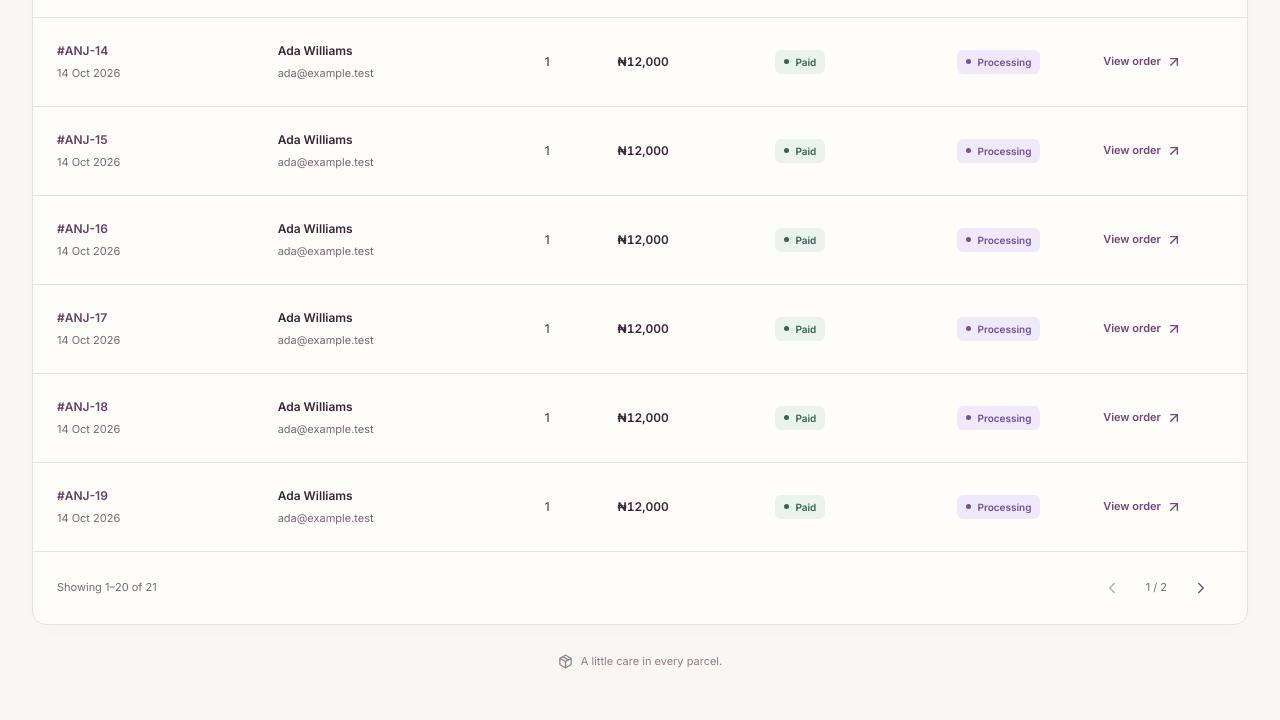
Test: pagination exposes all orders and a new search returns to the first page
(page scrolled)
Click the button named "Next page".
click(1201, 588)  # box [1179,566,1223,610]
(page scrolled)
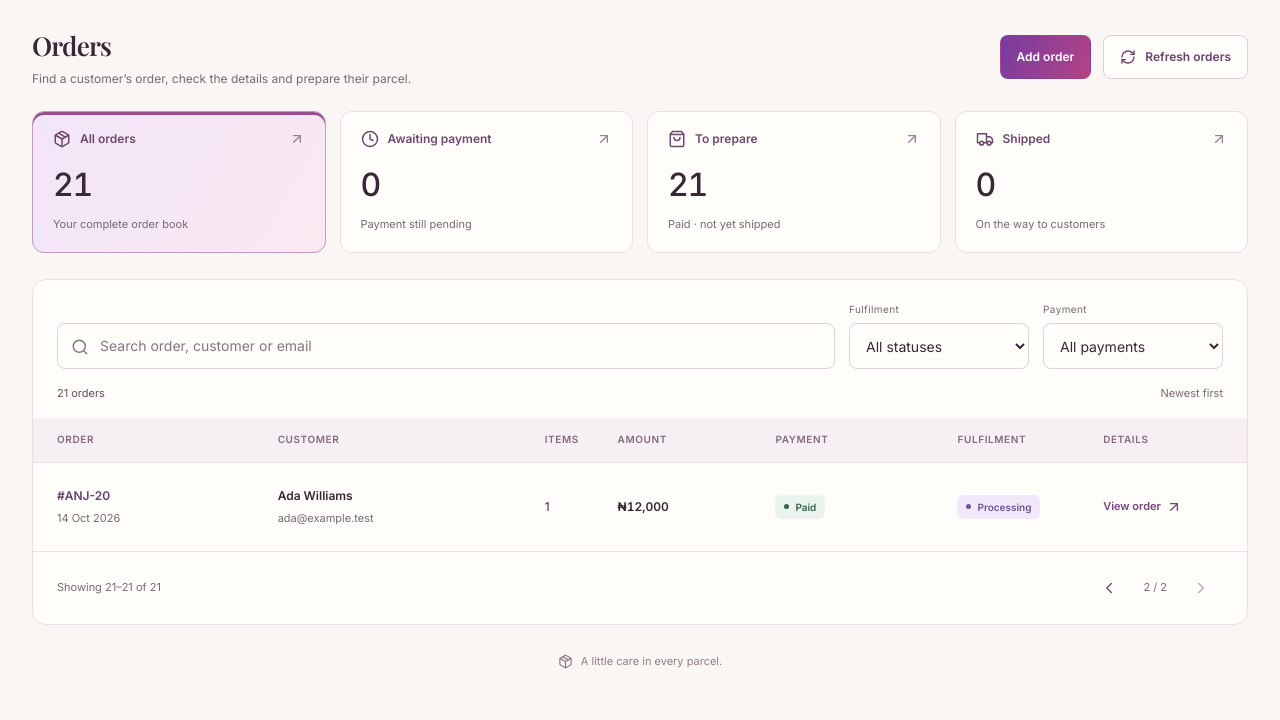
Check: the button with aria-label "View order ANJ-20" is shown, box [1103,485,1182,529]
Type "ANJ-0" into the search field.
click(446, 346); type("ANJ-0")  # box [57,323,835,369]
(page scrolled)
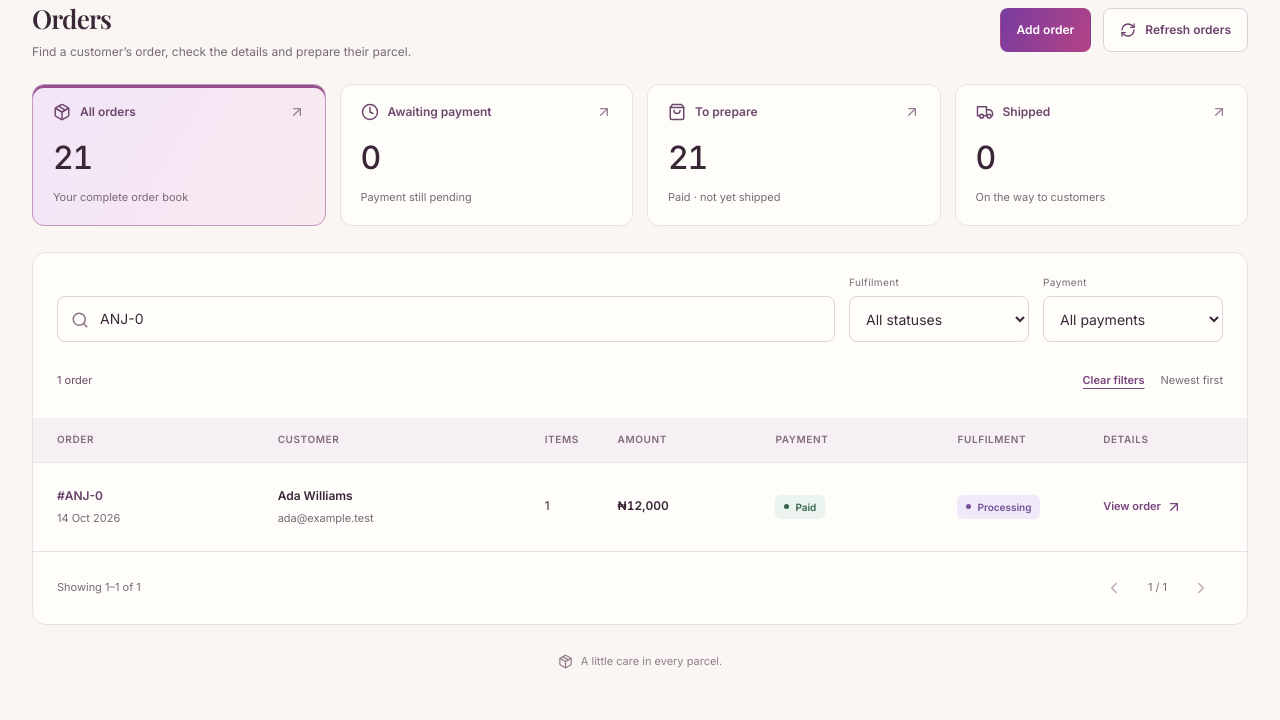
Check: the button with aria-label "View order ANJ-0" is shown, box [1103,485,1182,529]
Check: the button named "Previous page" is disabled, box [1092,566,1136,610]
